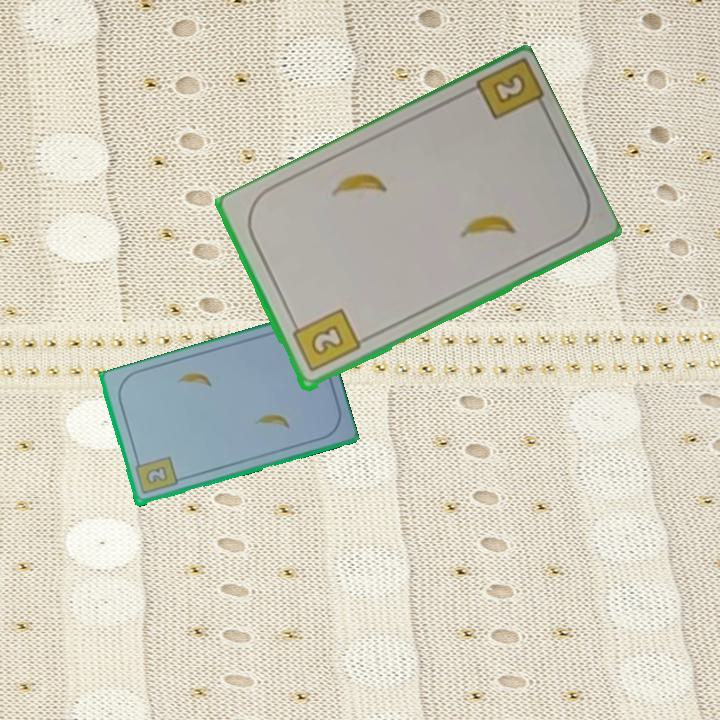2b: (288, 305, 363, 375), (131, 453, 180, 497), (488, 70, 529, 107)
